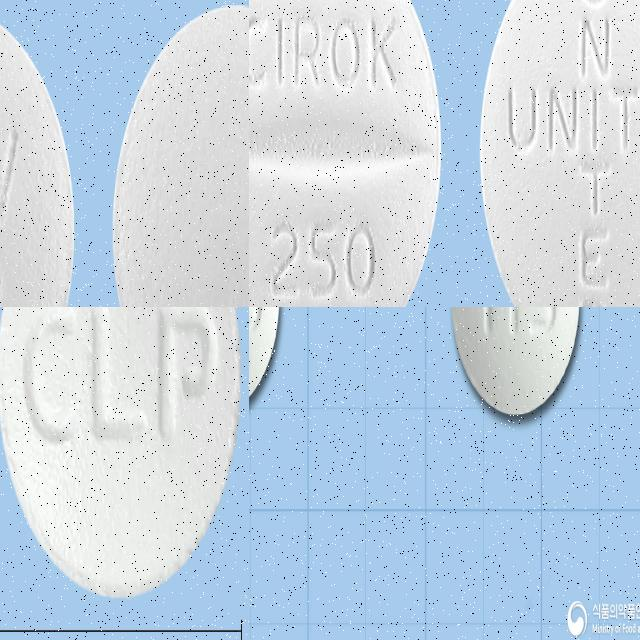Celltrion Levofloxacin: (0, 307, 246, 607)
Ciprocin - 259mg: (448, 307, 586, 424)
Cirok -500mg: (249, 0, 444, 307), (476, 0, 640, 307)
Cirokan: (107, 0, 249, 307), (0, 0, 81, 307)
